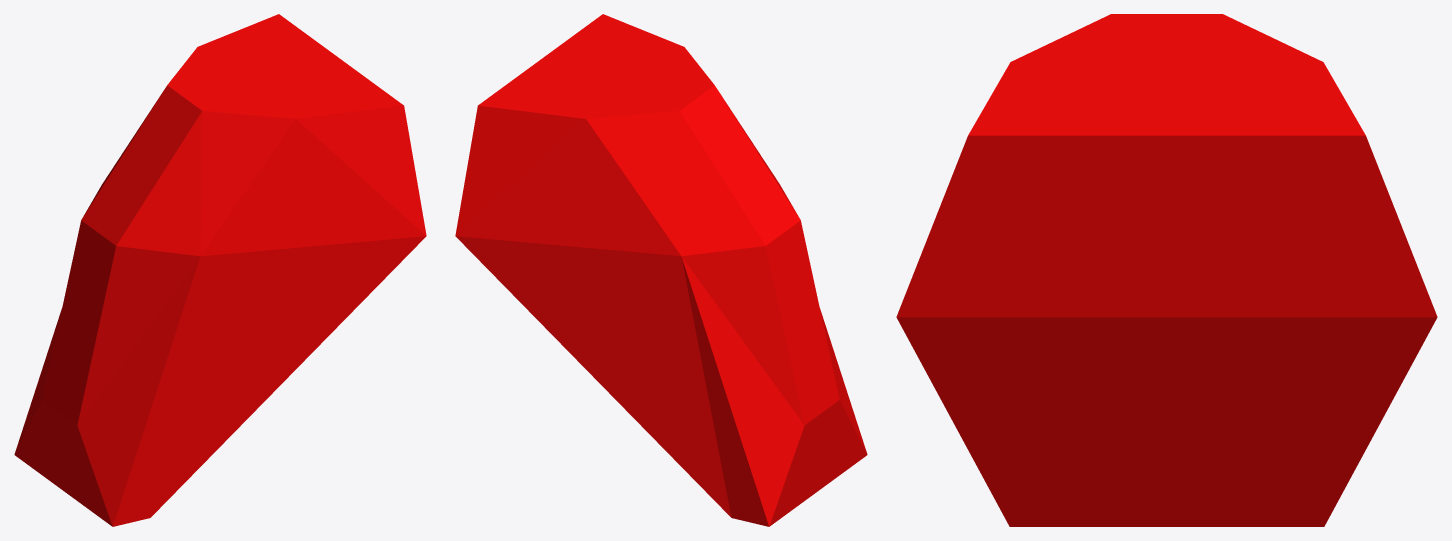
File: LArm.obj
3 views of the same model, side by side, from view 1: azimuth 30°, elevation 25°; view 2: azimuth 150°, elevation 25°; view 3: azimuth 270°, elevation 25° (orthographic). The views are drawn at different scales.
Visible parts, largest first — view 1: LArm_立方体.002; view 2: LArm_立方体.002; view 3: LArm_立方体.002.
Boxes of the visible parts, left/top/right/bottom form: LArm_立方体.002: left=14, top=14, right=426, bottom=526; LArm_立方体.002: left=455, top=14, right=867, bottom=526; LArm_立方体.002: left=896, top=14, right=1437, bottom=526.
Size of the model in its own units: 0.8905 by 1.1 by 0.9316.
Materials: 1 (1 with a texture image).
